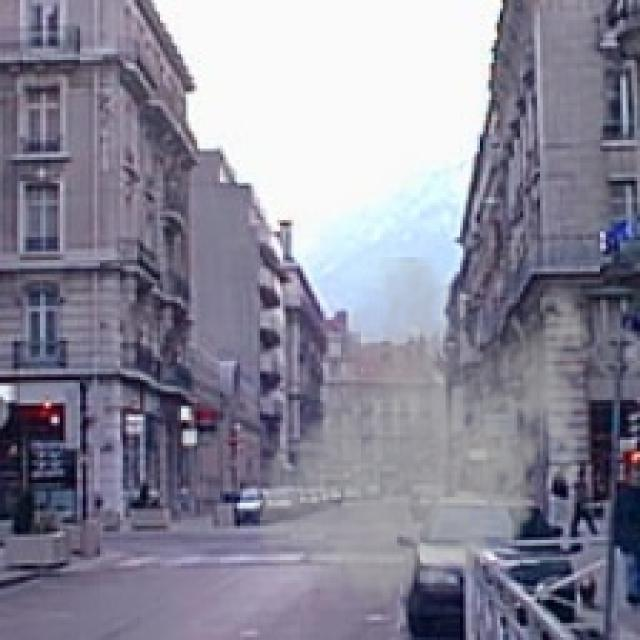smoke: (245, 257, 606, 623)
